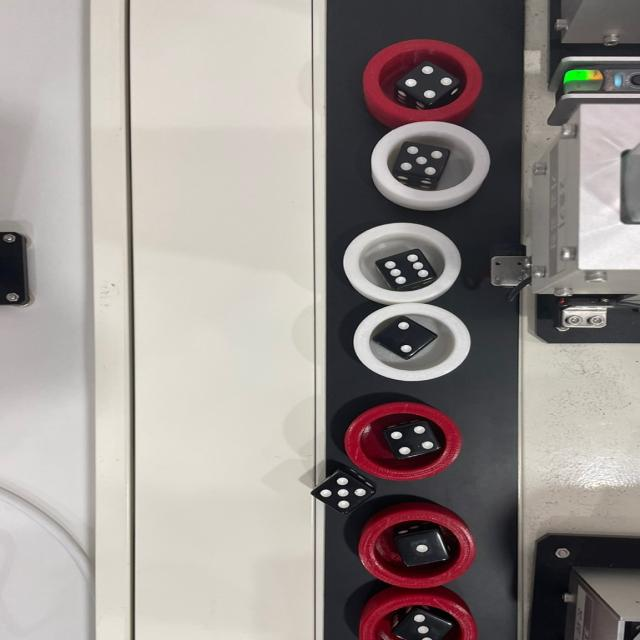DICE1: (414, 536, 436, 558)
DICE2: (392, 317, 422, 353)
DICE3: (412, 612, 441, 640)
DICE4: (402, 62, 452, 98), (390, 424, 436, 456)
DICE5: (319, 473, 369, 508), (398, 143, 446, 176)
DICE6: (385, 252, 433, 284)
RedChip: (360, 38, 481, 120), (343, 404, 463, 481), (358, 509, 475, 587), (361, 594, 481, 640)
WhiteChip: (342, 222, 465, 302), (369, 121, 489, 202), (354, 302, 474, 380)
